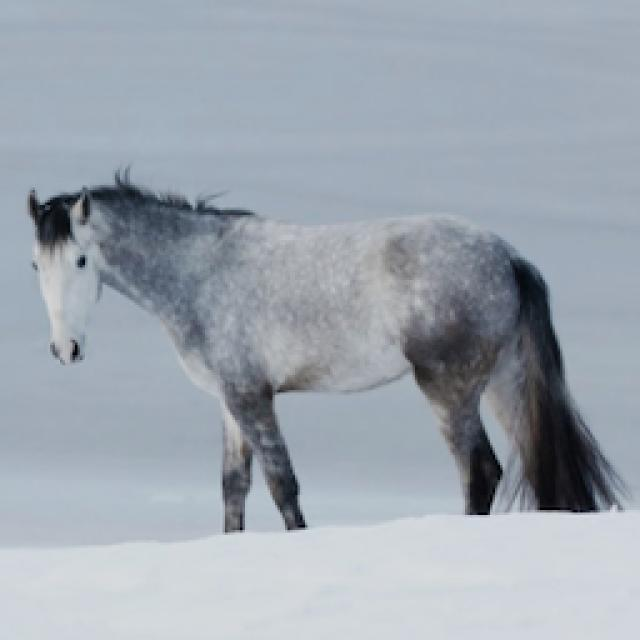Horse: (20, 160, 632, 538)
